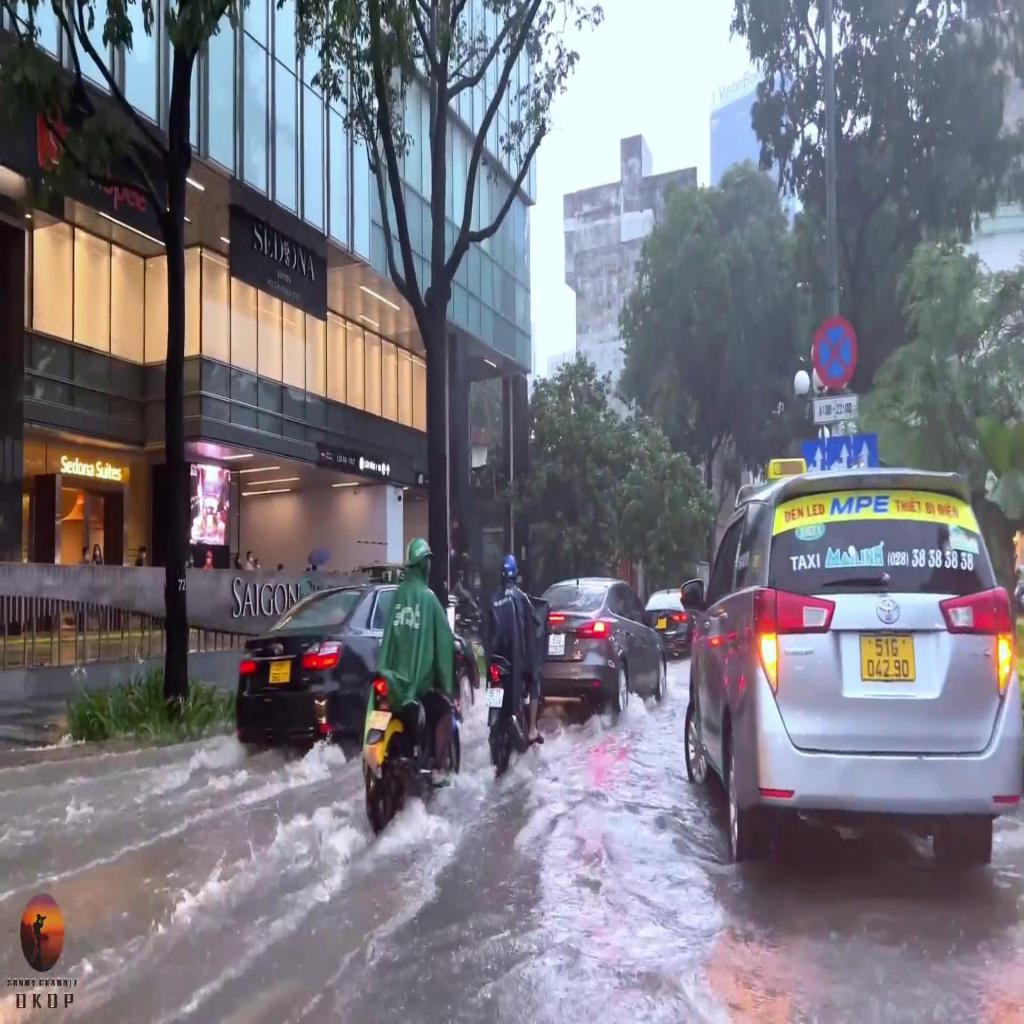cam_dung_xe_va_do_xe: (813, 316, 858, 390)
huong_di_tren_moi_lan_duong_theo_vach_ke_duong: (803, 436, 880, 474)
khac: (813, 394, 858, 421)
